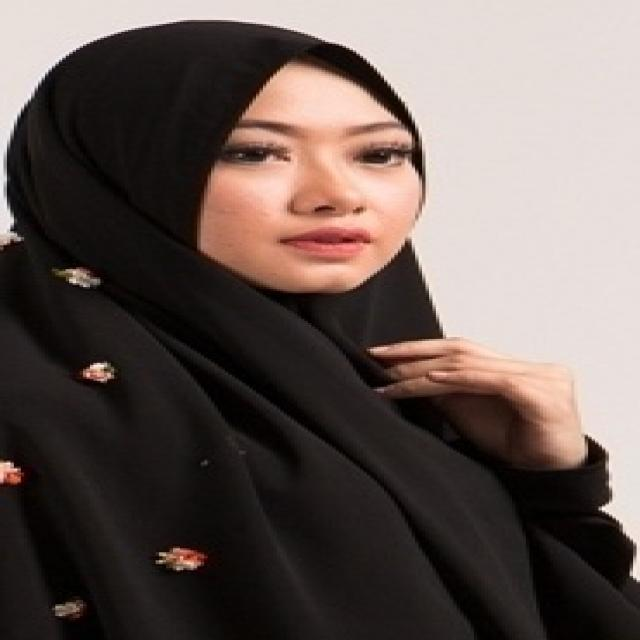head: (66, 20, 456, 302)
